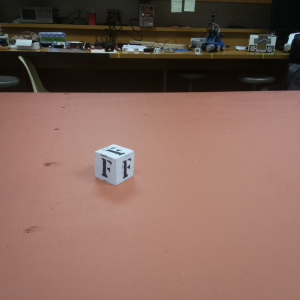blockF: (93, 143, 134, 186)
